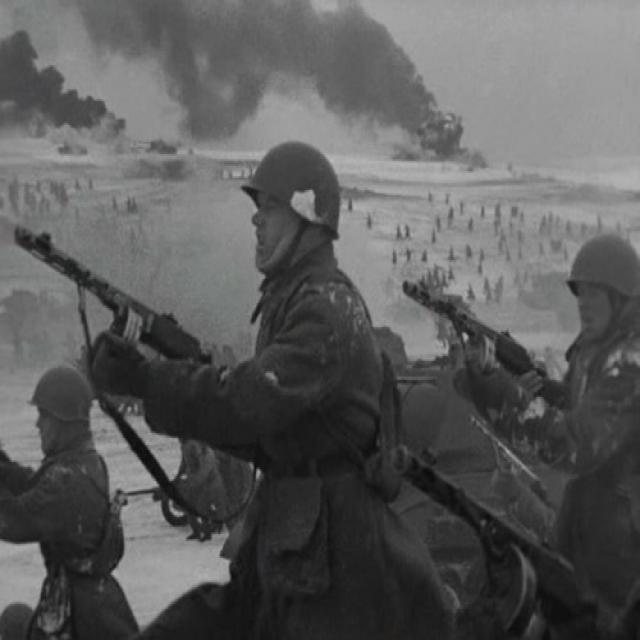rifle: (390, 442, 588, 640), (10, 219, 220, 370), (392, 272, 578, 415)
